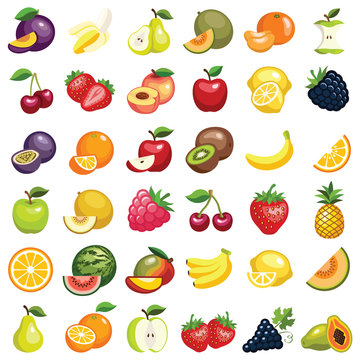Pineapple: (314, 182, 345, 238)
